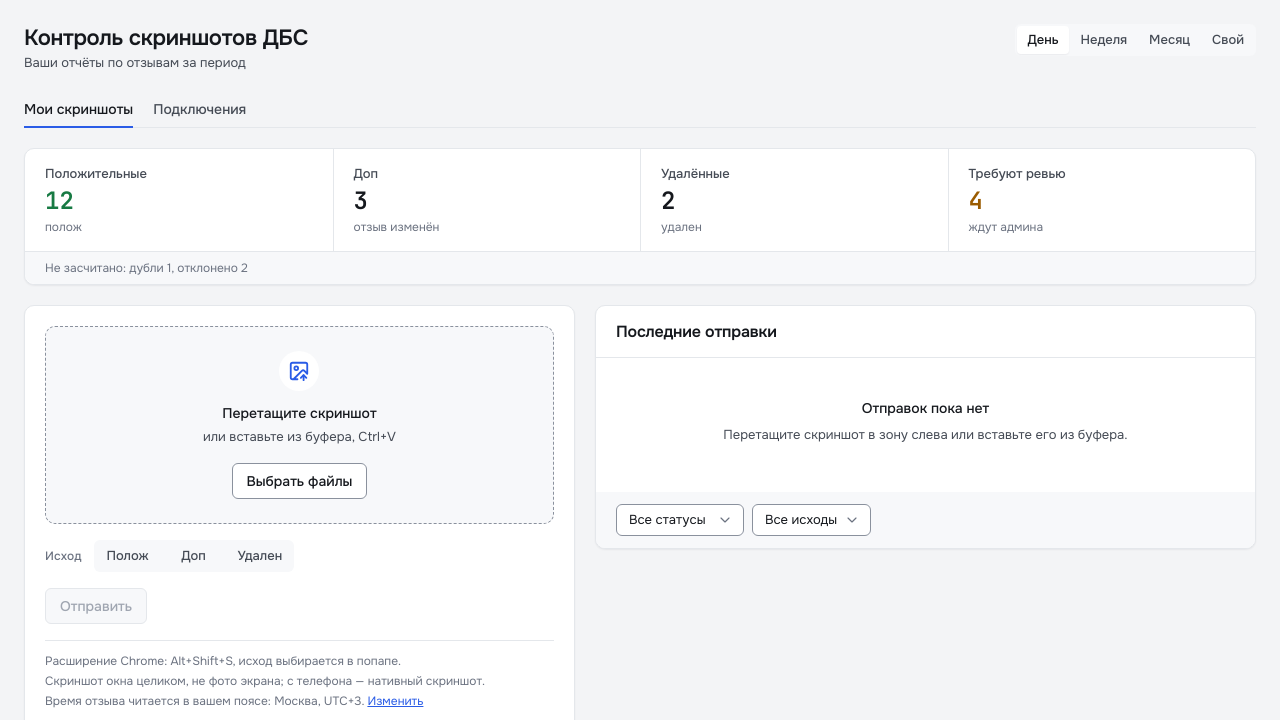
Test case: ScreenshotControlPage › says which timezone the review time is read in and leads to the setting
Click the button "Изменить". click: (395, 701)
box: top-left (367, 693), bottom-right (423, 709)
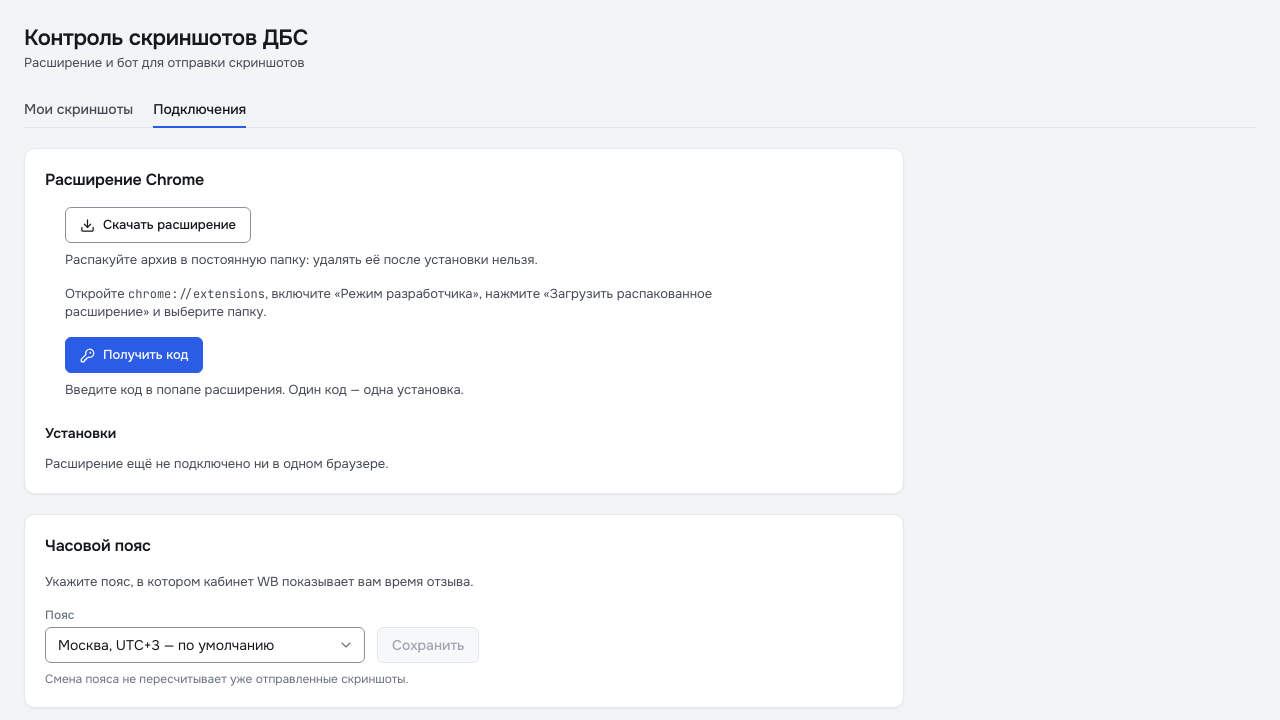
Check: the heading "Часовой пояс" is shown, box top-left (45, 535), bottom-right (151, 556)
Check: the text "Укажите пояс, в котором кабинет WB показывает вам время отзыва." is shown, box top-left (45, 573), bottom-right (474, 590)
Check: the dropdown labelled "Пояс" shows "Москва, UTC+3 — по умолчанию", box top-left (45, 627), bottom-right (365, 663)
